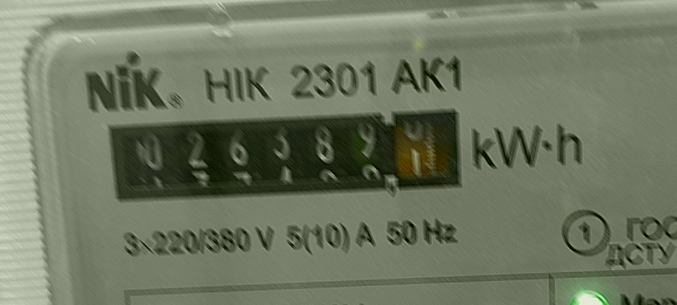0: (141, 129, 165, 169), (405, 118, 424, 139)
1: (410, 145, 423, 176)
2: (185, 128, 210, 167)
3: (272, 124, 290, 159)
6: (229, 125, 248, 165)
8: (315, 123, 336, 162)
9: (358, 121, 377, 155)
screen: (95, 96, 477, 211)
